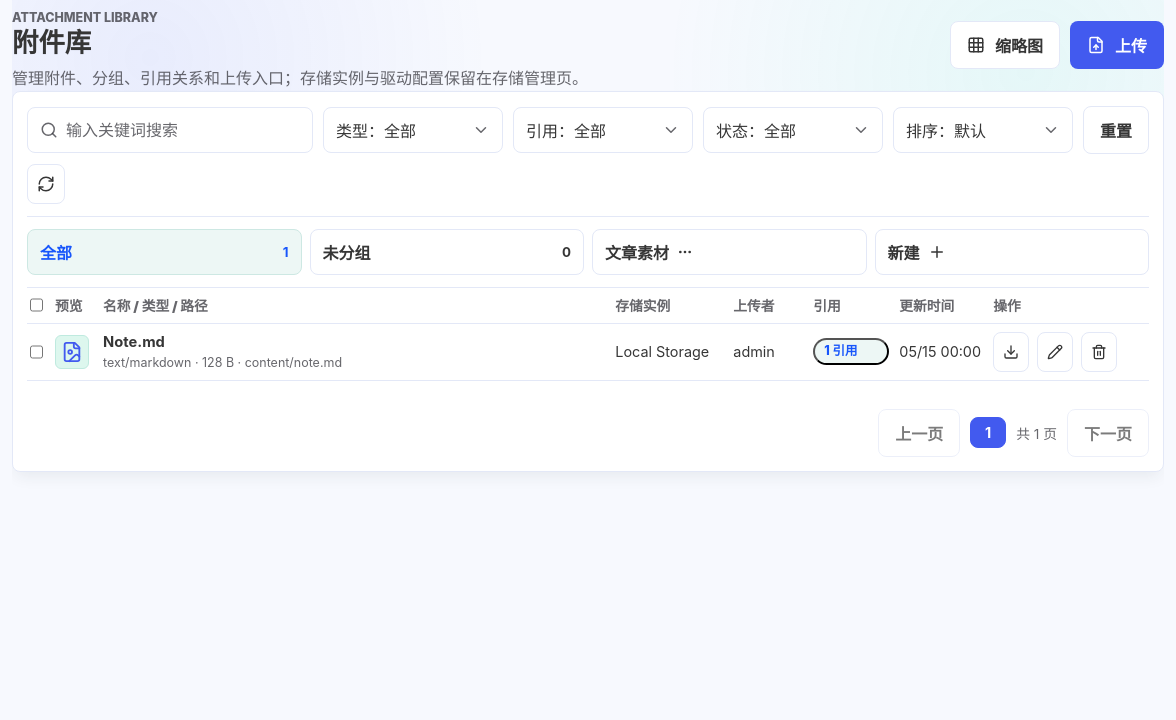
Test: StudioAttachmentsPage › does not show clear selection in the selection bar
Expected: the text "Note.md" is shown, [103, 333, 165, 351]
Click the label named "选择附件 Note.md" at (36, 352), box [30, 344, 43, 360]
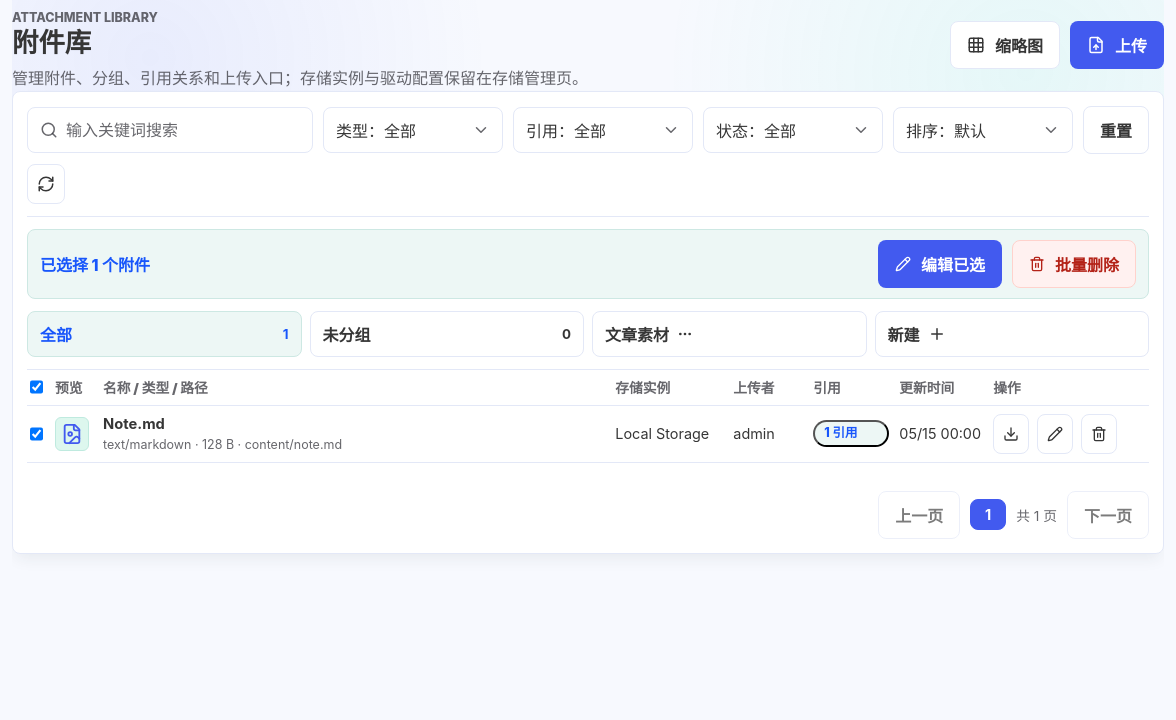
Now the button "批量删除" is shown, box [1012, 240, 1136, 288]
